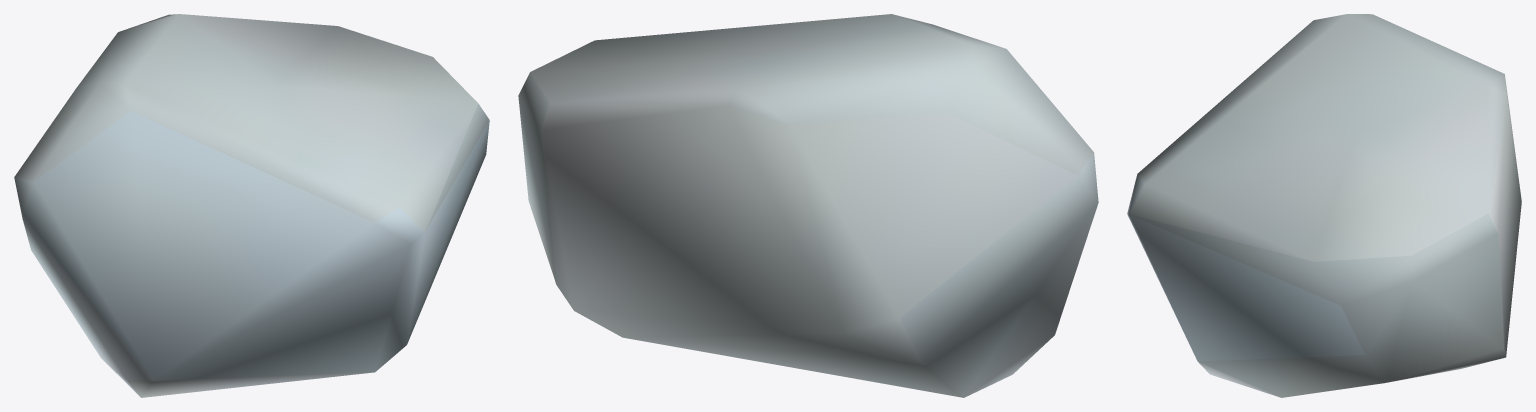
The model's file is P_RockSpire_Rock01.obj.
3 views of the same model, side by side, from view 1: azimuth 30°, elevation 25°; view 2: azimuth 150°, elevation 25°; view 3: azimuth 270°, elevation 25° (orthographic). The views are drawn at different scales.
Bounding box in the file's own units: 1.87 × 1.1 × 1.38.
